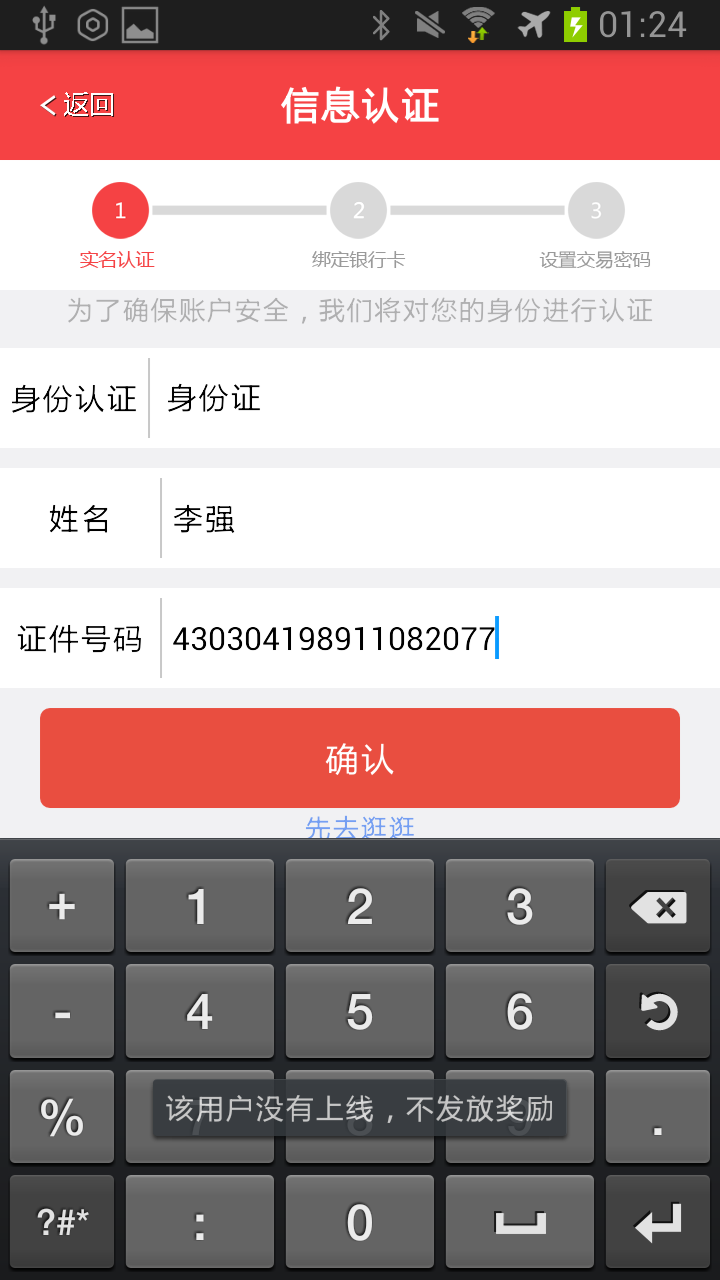alert: (150, 1075, 570, 1146)
